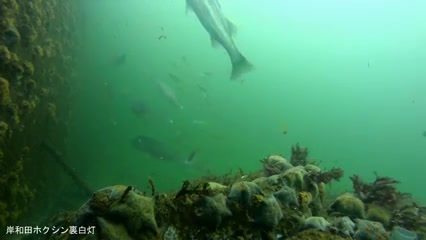suzuki: (177, 1, 254, 85)
